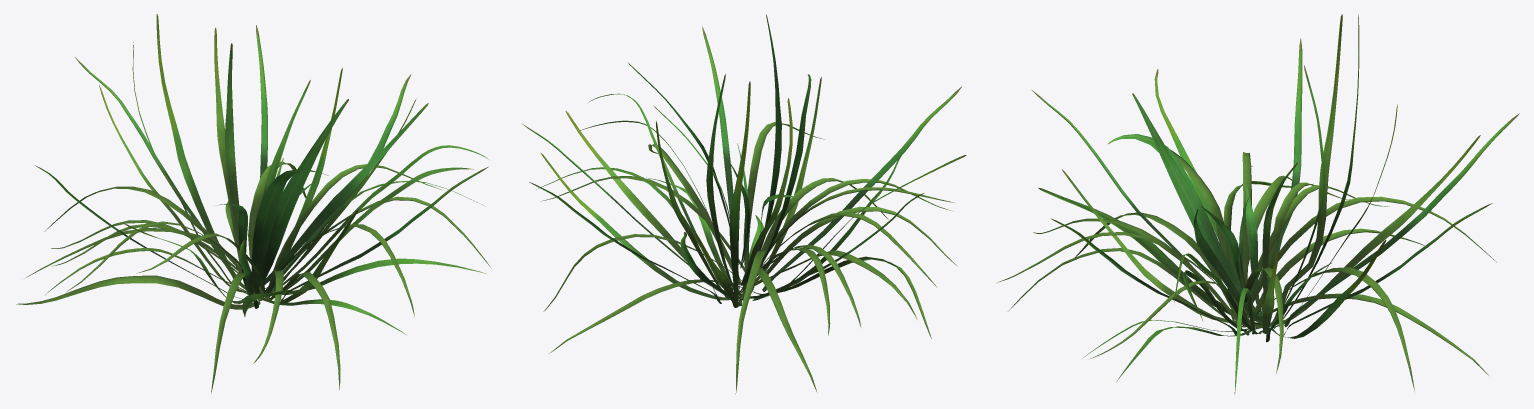
File: grass_tuft_a.glb
3 views of the same model, side by side, from view 1: azimuth 30°, elevation 25°; view 2: azimuth 150°, elevation 25°; view 3: azimuth 270°, elevation 25° (orthographic). The views are drawn at different scales.
Visible parts, largest first — view 1: LOD0; view 2: LOD0; view 3: LOD0.
Boxes of the visible parts, <box> form: LOD0: <box>16,14,491,392</box>; LOD0: <box>522,14,966,394</box>; LOD0: <box>997,14,1519,394</box>.
Size of what is drawn, in the model's own units: 8.18 by 4.77 by 7.86.
1 material, 1 textured.
